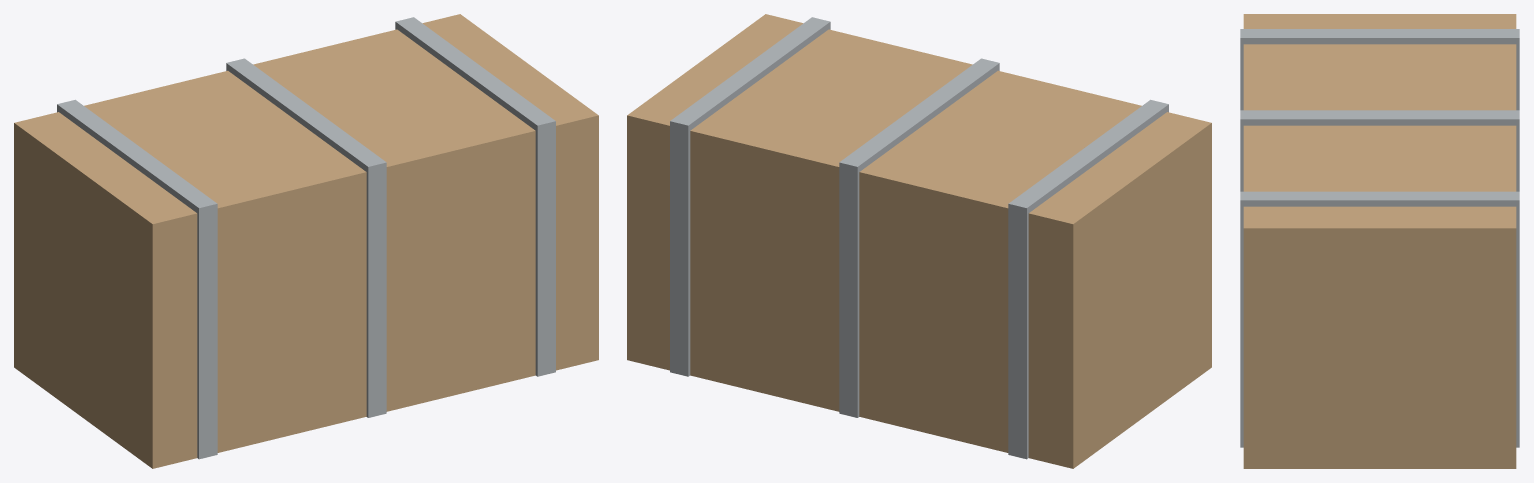
Rendered from SM_LargeStorageBox.fbx.
The picture shows the model from 3 angles, left to right: view 1: azimuth 30°, elevation 25°; view 2: azimuth 150°, elevation 25°; view 3: azimuth 270°, elevation 25°; orthographic projection.
Visible parts, largest first — view 1: SM_LargeStorageBox; view 2: SM_LargeStorageBox; view 3: SM_LargeStorageBox.
Part boxes in pixels (<box>): SM_LargeStorageBox: <box>14,14,598,468</box>; SM_LargeStorageBox: <box>627,14,1211,468</box>; SM_LargeStorageBox: <box>1240,14,1519,468</box>.
Bounding box in the file's own units: 14500 × 8000 × 7800.
